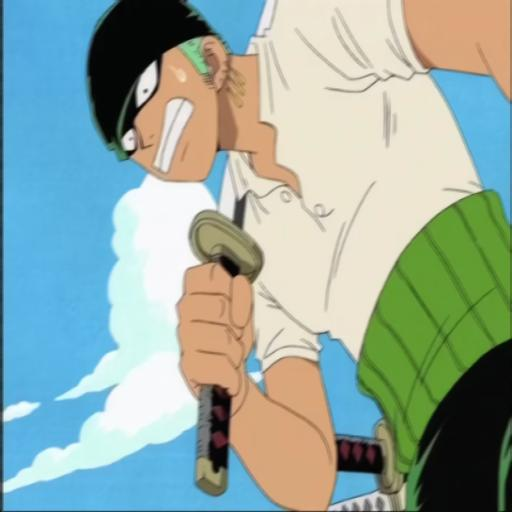Zoro: (79, 0, 512, 512)
